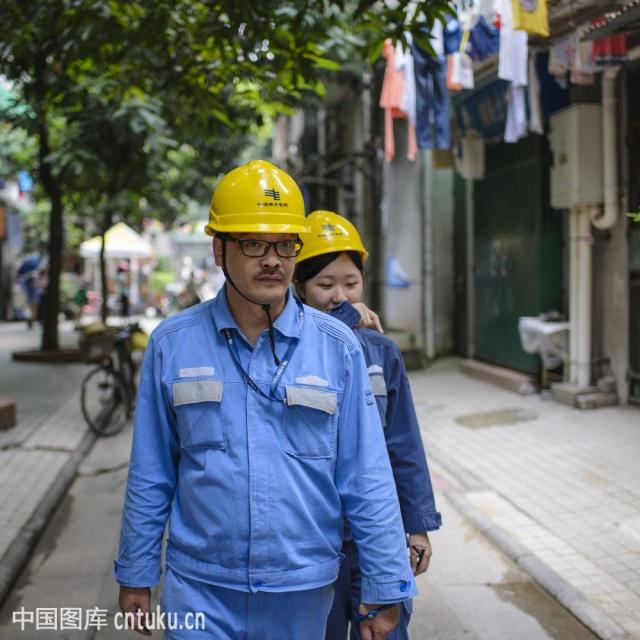helmet: (207, 207, 310, 408), (289, 275, 365, 425)
